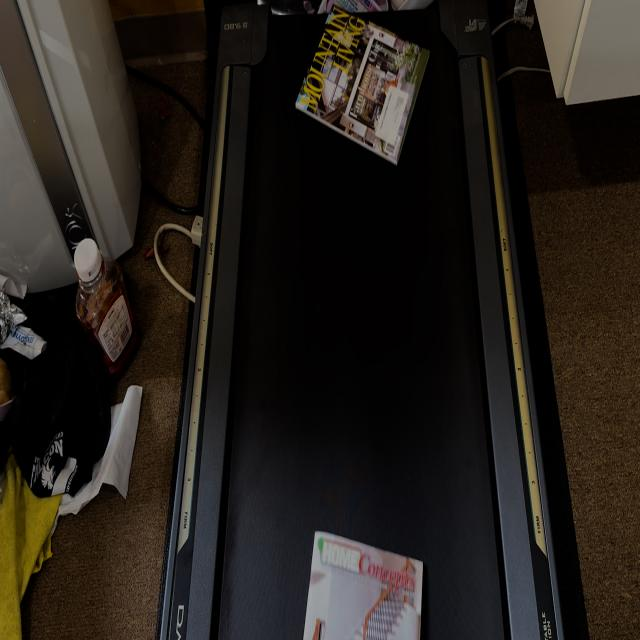Recycle: (294, 0, 432, 170), (302, 529, 426, 640)
